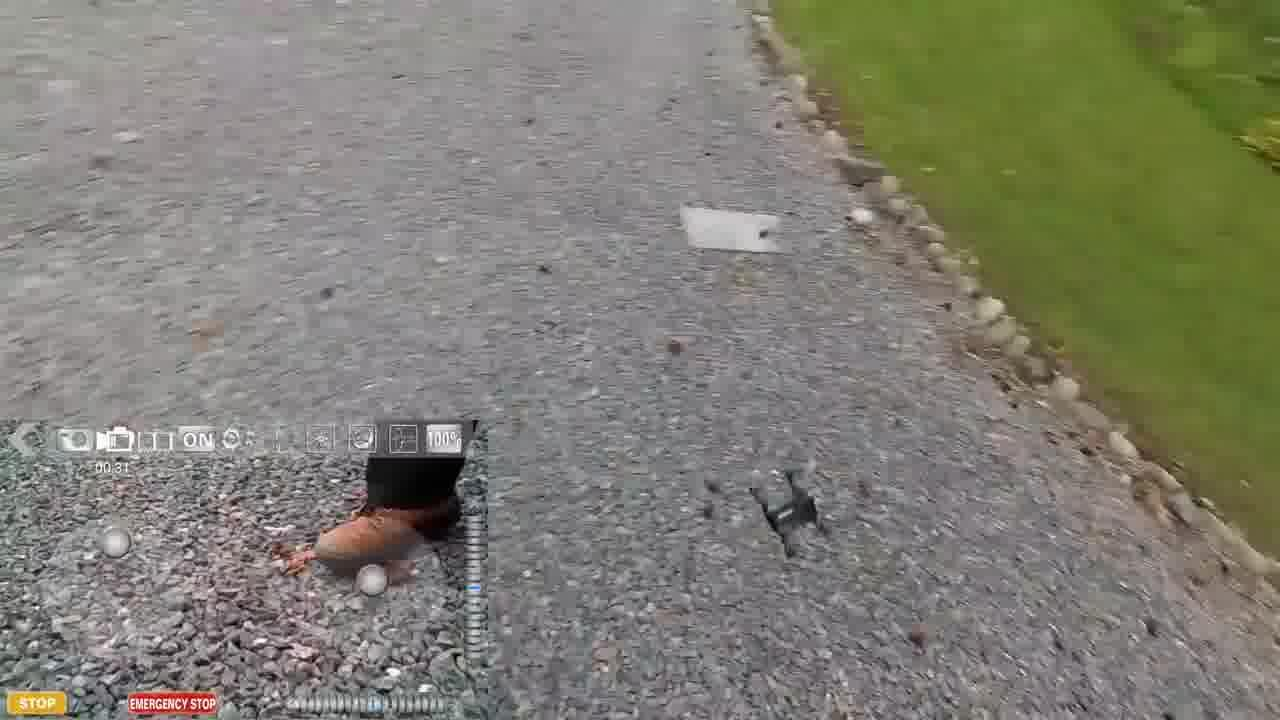drone: (739, 464, 846, 562)
